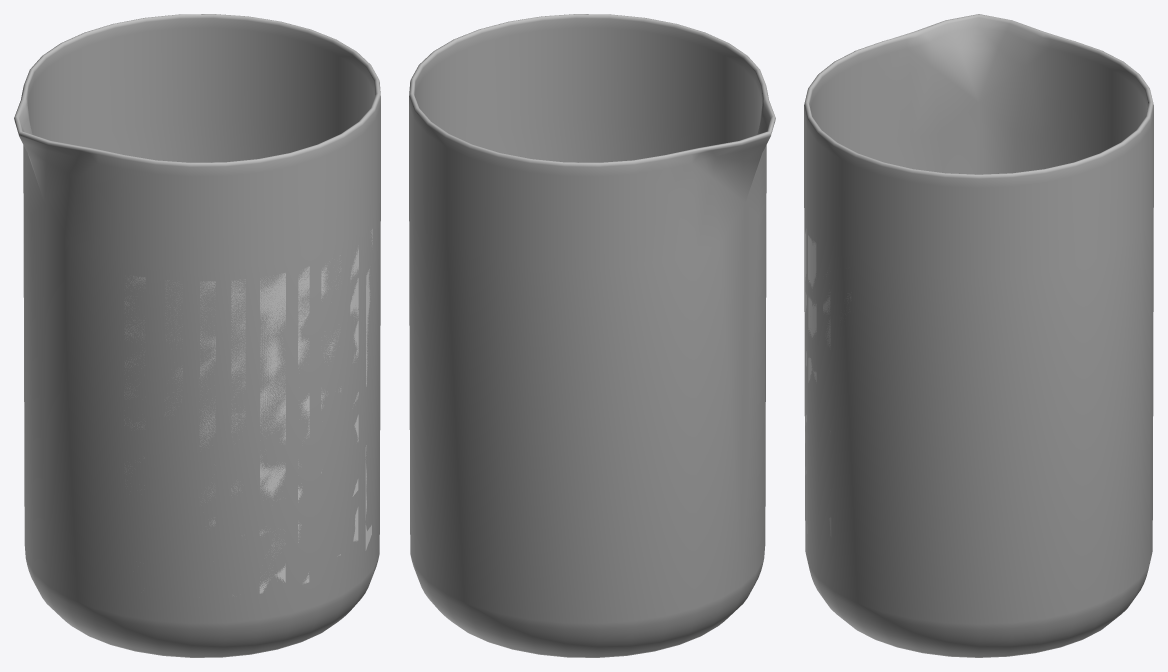
File: beaker.glb
3 views of the same model, side by side, from view 1: azimuth 30°, elevation 25°; view 2: azimuth 150°, elevation 25°; view 3: azimuth 270°, elevation 25° (orthographic). The views are drawn at different scales.
Parts seen in each view (by area): view 1: beaker, scale; view 2: beaker; view 3: beaker, scale.
Part boxes in pixels (x1,y1,x2,y2): beaker: (14, 14, 380, 657); scale: (124, 229, 372, 595); beaker: (409, 14, 775, 657); beaker: (804, 14, 1153, 657); scale: (805, 229, 851, 536).
Bounding box in the file's own units: 0.0372 × 0.0532 × 0.034.
1 material, 1 textured.
